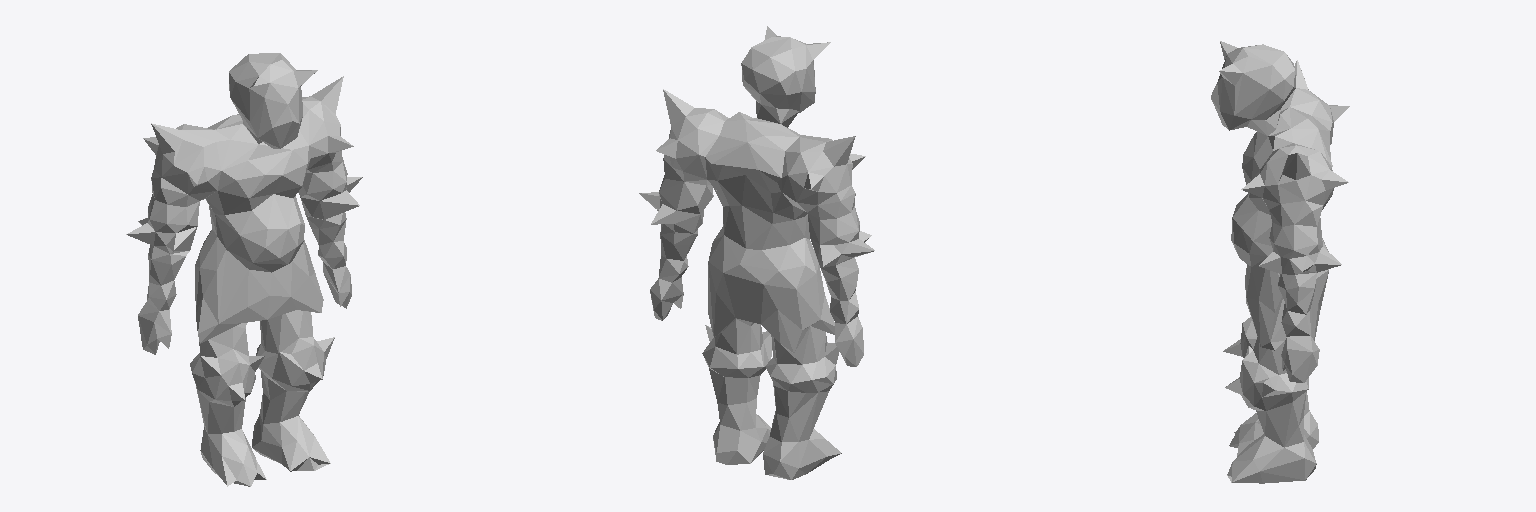
Rendered from decimated-knight-param.obj.
The picture shows the model from 3 angles: view 1: azimuth 30°, elevation 25°; view 2: azimuth 150°, elevation 25°; view 3: azimuth 270°, elevation 25°; orthographic projection.
Parts seen in each view (by area): view 1: default; view 2: default; view 3: default.
Boxes of the visible parts, box(x1,y1,x2,y2) form: default: box(126, 53, 362, 486); default: box(639, 26, 874, 479); default: box(1211, 41, 1349, 483).
Bounding box in the file's own units: 0.5432 × 0.8989 × 0.2751.